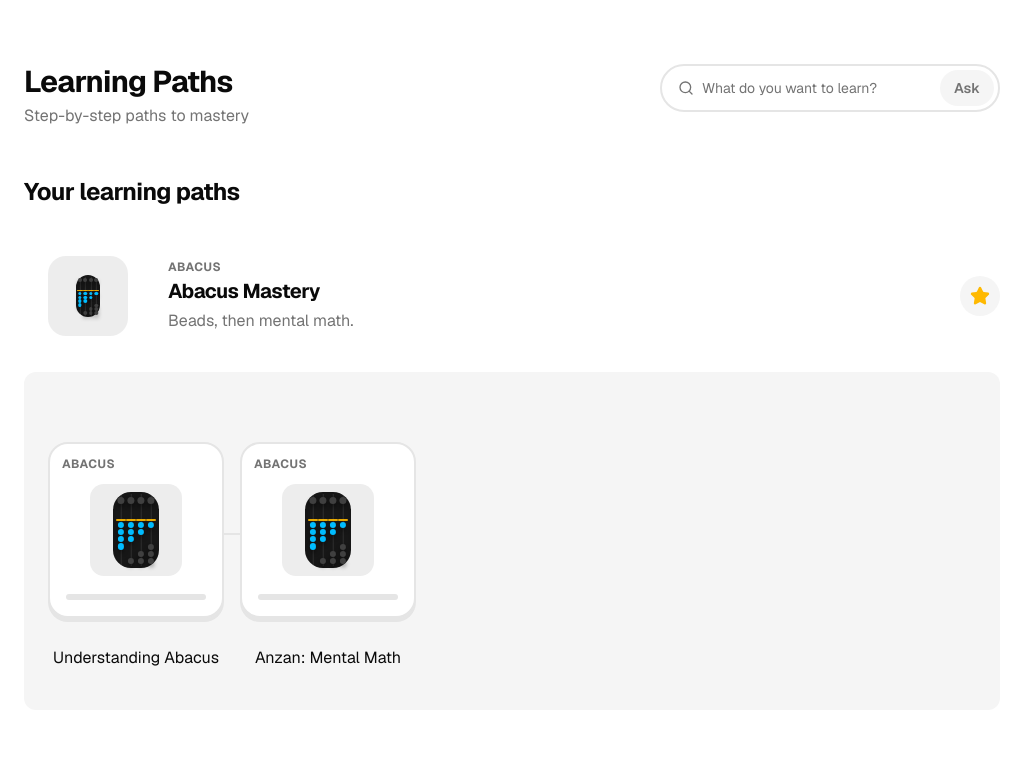
Scenario: CoursesBrowser › moves a path between sections when its star is toggled
Click the button named "Unstar Abacus Mastery" at (980,296), box [960,276,1000,316]
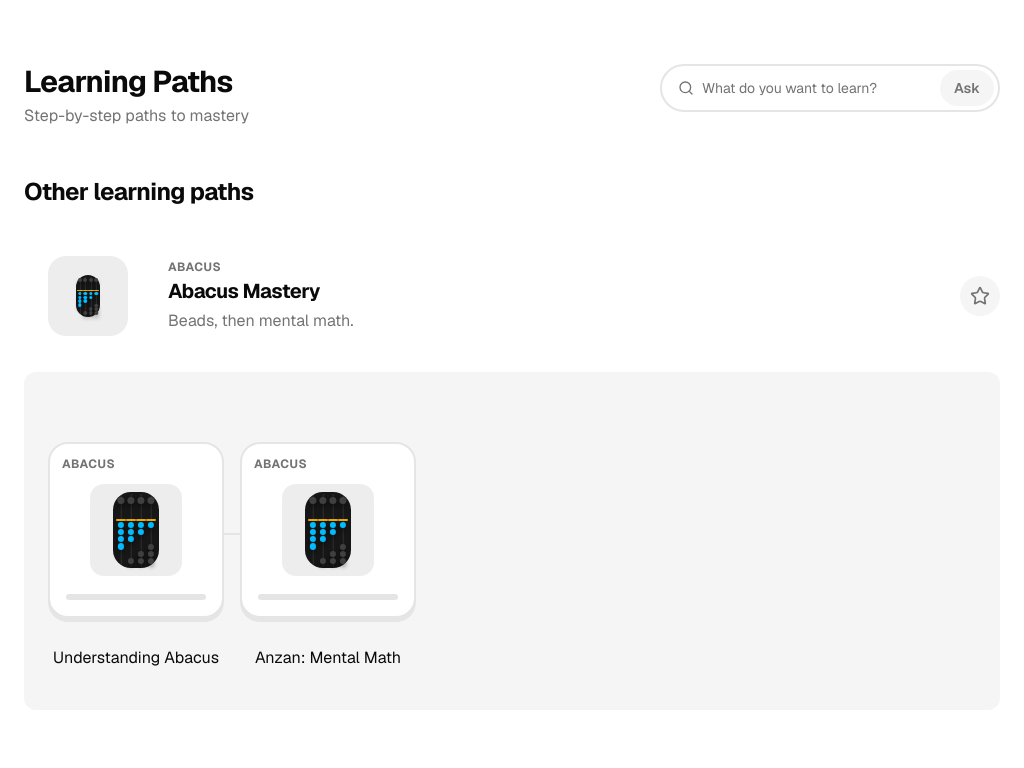
Expected: the heading "Abacus Mastery" is shown, [168,278,320,304]
Expected: the heading "Your learning paths" is gone
